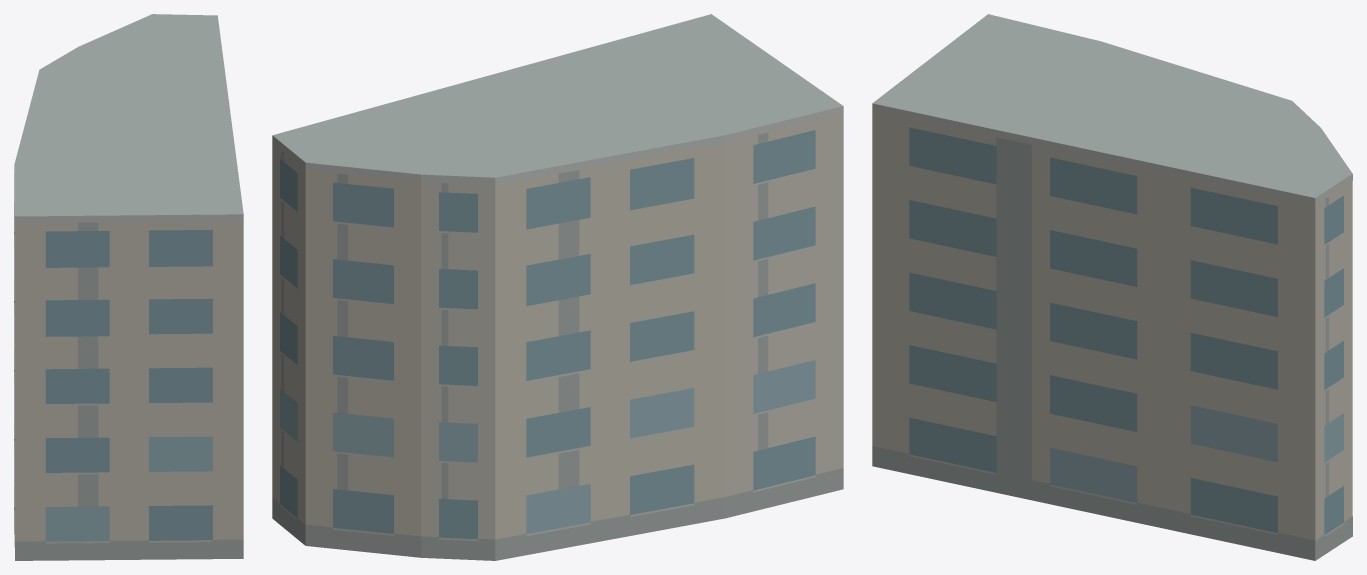
File: survey-upis-32724584.glb
3 views of the same model, side by side, from view 1: azimuth 30°, elevation 25°; view 2: azimuth 150°, elevation 25°; view 3: azimuth 270°, elevation 25° (orthographic). The views are drawn at different scales.
Parts seen in each view (by area): view 1: survey-upis-32724584.tmp; view 2: survey-upis-32724584.tmp; view 3: survey-upis-32724584.tmp.
Boxes of the visible parts, bbox=[...] form: survey-upis-32724584.tmp: bbox=[14, 14, 243, 560]; survey-upis-32724584.tmp: bbox=[272, 14, 843, 560]; survey-upis-32724584.tmp: bbox=[872, 14, 1352, 560].
Size of the model in its own units: 13.17 by 12.1 by 14.53.
